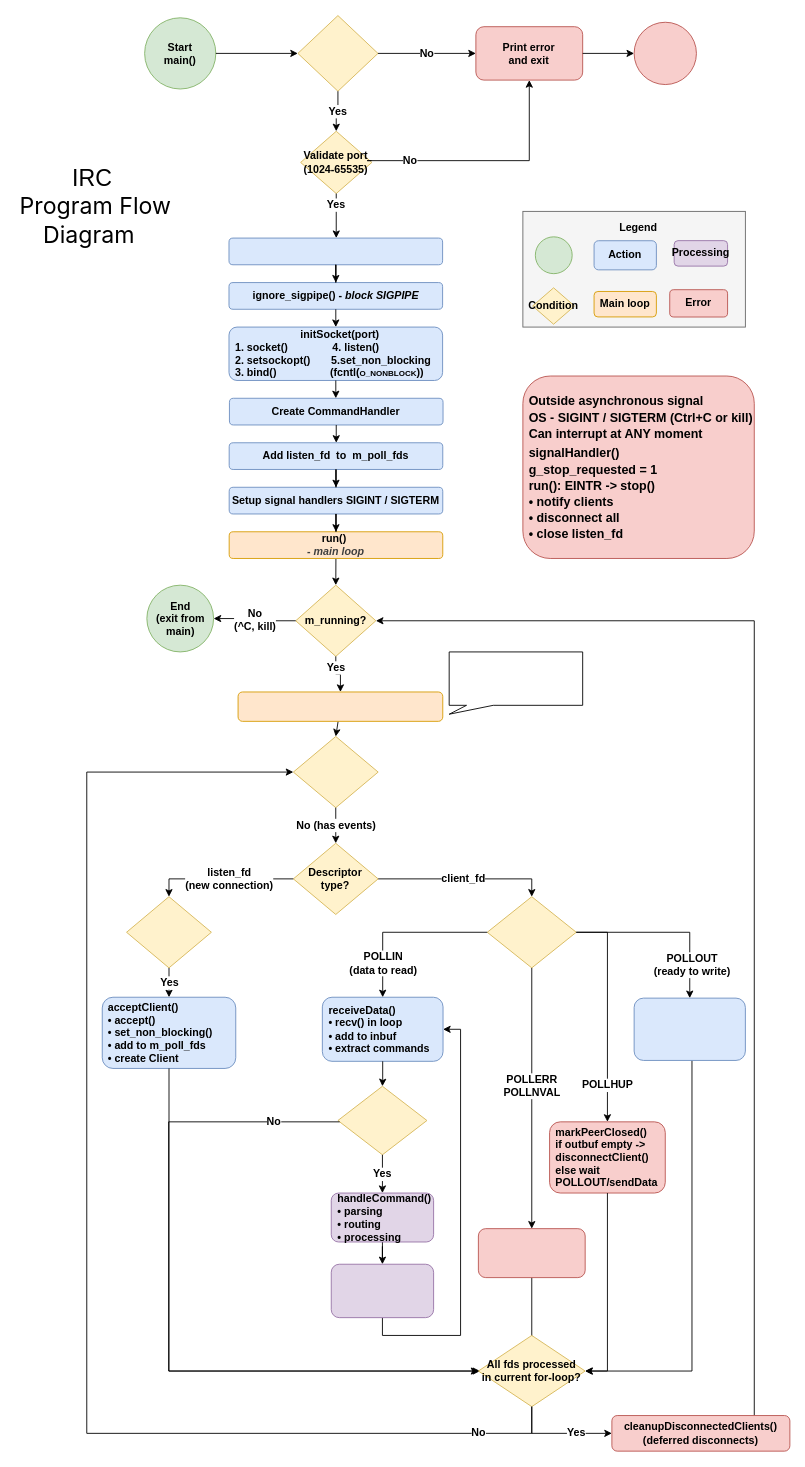
The diagram is 805 pixels wide and 1467 high, and some of its shapes have lost their labels. Here are the shapes that lost their labels. From the top down, the centre of each, then its label:
the point at 337,53: Validate arguments (argc == 3)
the point at 664,53: End
the point at 335,251: Create Server object - Server(port, password)
the point at 553,255: Start/End
the point at 515,682: poll() - blocks and waits for events on any of the socket, returns count of fds
the point at 340,706: poll()
the point at 335,772: revents == 0?
the point at 168,932: revents & POLLIN?
the point at 531,932: Event type?
the point at 689,1028: sendData() • send() from outbuf • remove sent data • disable POLLOUT
the point at 382,1120: Has complete command?
the point at 531,1253: disconnectClient() (immediate cleanup for socket errors)
the point at 382,1290: Add response to outbuf enable POLLOUT
